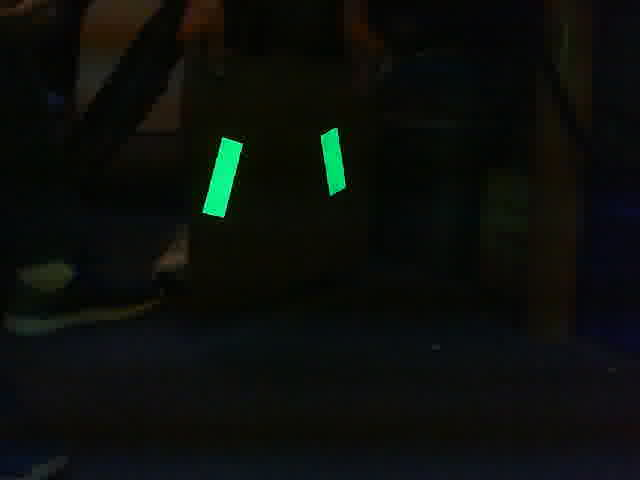target: (201, 127, 349, 219)
